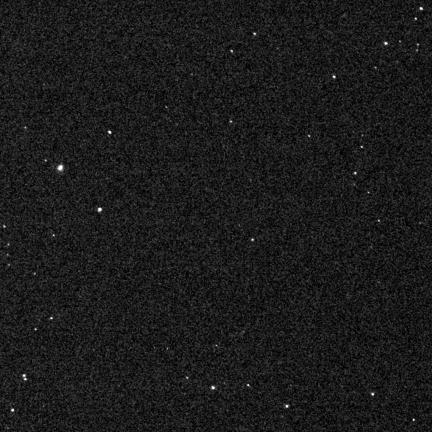blob: (57, 165, 63, 171), (285, 404, 290, 409), (211, 386, 215, 390), (98, 208, 102, 212), (371, 393, 375, 397), (246, 384, 250, 388), (50, 317, 54, 321), (251, 238, 255, 242), (414, 18, 418, 21), (253, 33, 257, 36), (384, 42, 388, 45), (11, 408, 14, 412), (230, 50, 234, 53), (333, 75, 336, 79), (354, 172, 357, 176), (378, 220, 381, 223), (108, 131, 111, 134), (23, 375, 26, 378), (420, 7, 423, 10), (34, 328, 37, 331), (361, 146, 364, 149)
